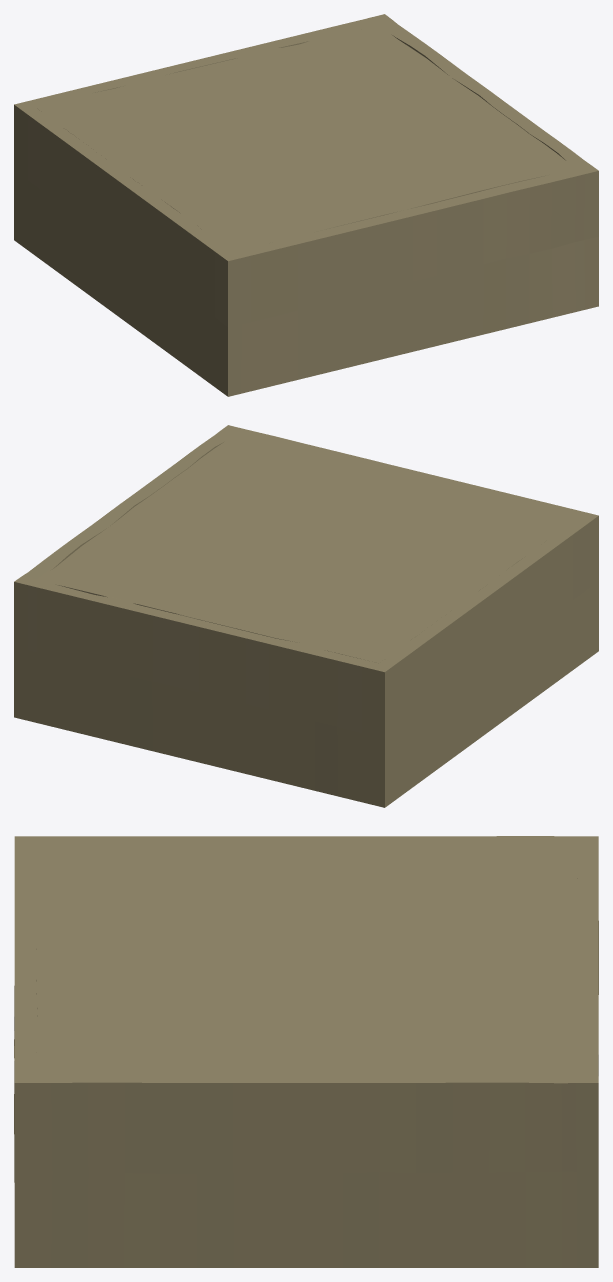
File: GarbageFlowerScene.fbx
The picture shows the model from 3 angles, top to bottom: view 1: azimuth 30°, elevation 25°; view 2: azimuth 150°, elevation 25°; view 3: azimuth 270°, elevation 25°; orthographic projection. The views are drawn at different scales.
Parts seen in each view (by area): view 1: wall; view 2: wall; view 3: wall.
Boxes of the visible parts, x1,y1,x2,y2 form: wall: (14,14,598,396); wall: (14,425,598,807); wall: (14,836,598,1267).
Bounding box in the file's own units: 2002 × 908 × 2004.
